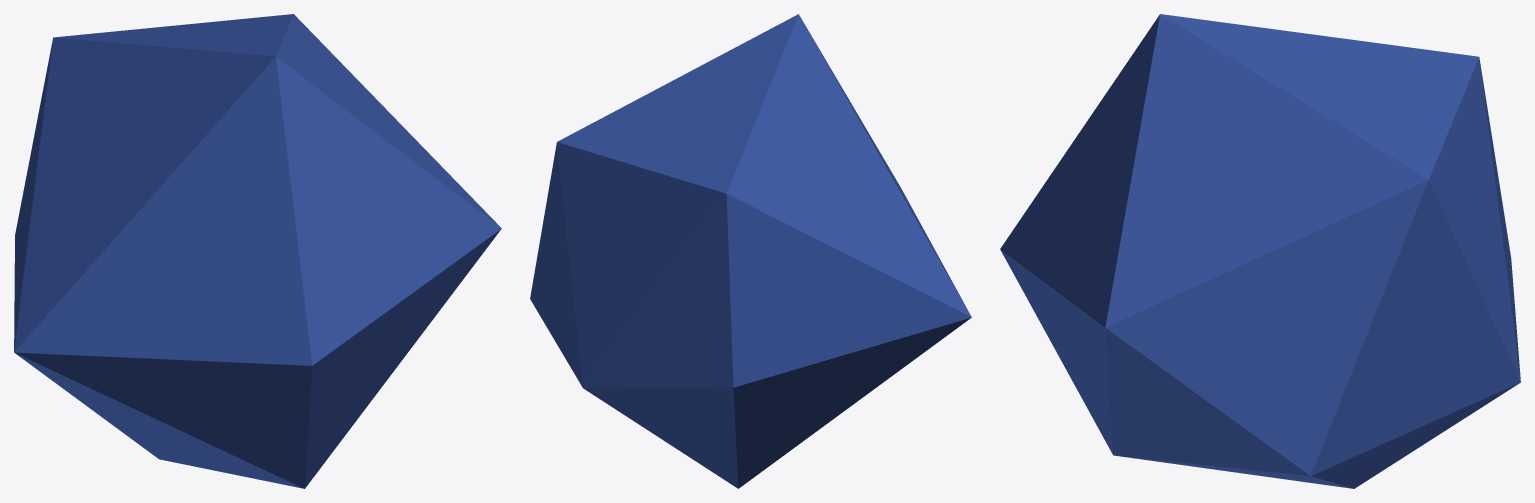
File: island3_stone2.obj
The picture shows the model from 3 angles, left to right: view 1: azimuth 30°, elevation 25°; view 2: azimuth 150°, elevation 25°; view 3: azimuth 270°, elevation 25°; orthographic projection. The views are drawn at different scales.
Parts seen in each view (by area): view 1: Icosphere.000_Icosphere.009; view 2: Icosphere.000_Icosphere.009; view 3: Icosphere.000_Icosphere.009.
Boxes of the visible parts, x1,y1,x2,y2 form: Icosphere.000_Icosphere.009: [14, 14, 501, 488]; Icosphere.000_Icosphere.009: [530, 14, 971, 488]; Icosphere.000_Icosphere.009: [1000, 14, 1520, 488].
Bounding box in the file's own units: 1.64 × 1.58 × 1.53.
